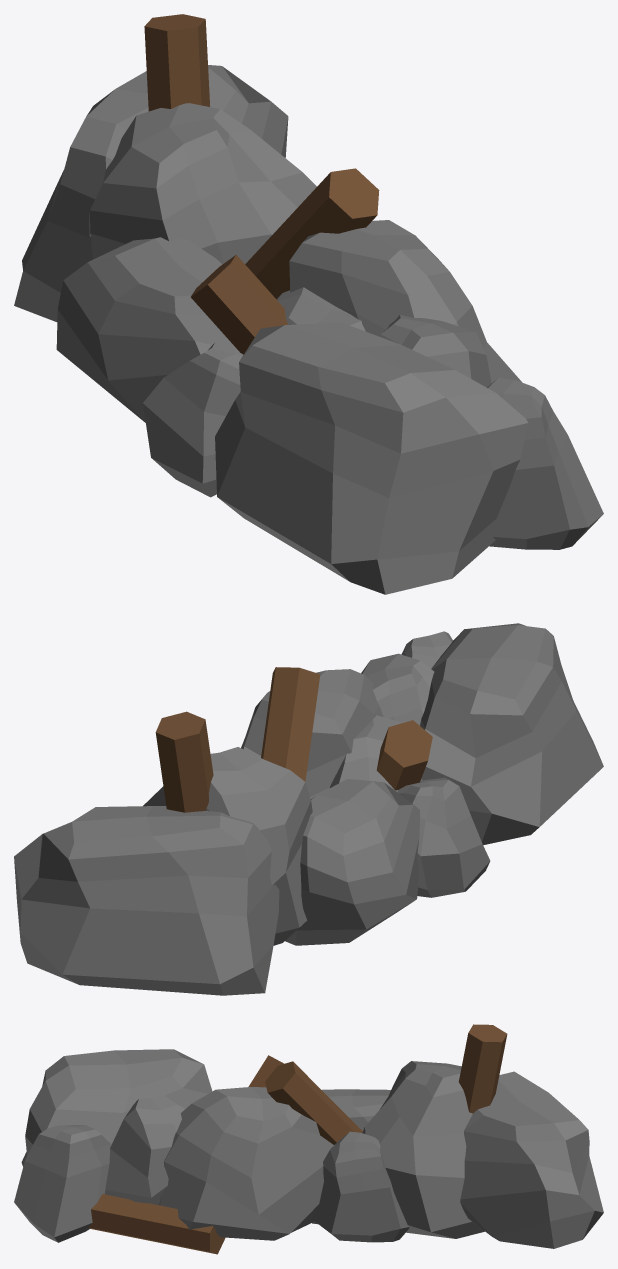
The model's file is bloqueo.glb.
The picture shows the model from 3 angles, top to bottom: view 1: azimuth 30°, elevation 25°; view 2: azimuth 150°, elevation 25°; view 3: azimuth 270°, elevation 25°; orthographic projection. The views are drawn at different scales.
Parts seen in each view (by area): view 1: Plane.006, Plane.003, Plane.009, Plane.008, Plane.001, Plane.007, Plane.010, Cylinder, Cylinder.003, Cylinder.001, Plane.004, Plane.005; view 2: Plane.008, Plane.006, Plane.009, Plane.003, Plane.010, Plane.001, Cylinder, Cylinder.003, Plane.004, Cylinder.001, Plane.005, Plane.007; view 3: Plane.001, Plane.008, Plane.003, Plane.006, Plane.007, Plane, Plane.004, Cylinder.002, Cylinder, Cylinder.003, Plane.009, Cylinder.001.
Boxes of the visible parts, x1,y1,x2,y2 form: Plane.006: [215, 323, 528, 594]; Plane.003: [89, 103, 316, 264]; Plane.009: [56, 237, 231, 422]; Plane.008: [14, 65, 288, 321]; Plane.001: [289, 220, 521, 382]; Plane.007: [487, 377, 603, 549]; Plane.010: [143, 342, 243, 497]; Cylinder: [245, 168, 379, 298]; Cylinder.003: [144, 14, 209, 111]; Cylinder.001: [191, 254, 288, 354]; Plane.004: [379, 315, 491, 387]; Plane.005: [276, 287, 365, 331]; Plane.008: [14, 806, 279, 995]; Plane.006: [420, 623, 603, 845]; Plane.009: [285, 779, 419, 945]; Plane.003: [143, 747, 312, 945]; Plane.010: [397, 777, 490, 897]; Plane.001: [241, 669, 383, 798]; Cylinder: [261, 667, 320, 781]; Cylinder.003: [155, 711, 213, 812]; Plane.004: [361, 653, 434, 725]; Cylinder.001: [376, 720, 432, 790]; Plane.005: [329, 715, 421, 791]; Plane.007: [401, 631, 452, 668]; Plane.001: [159, 1087, 334, 1240]; Plane.008: [460, 1071, 603, 1248]; Plane.003: [362, 1061, 484, 1238]; Plane.006: [21, 1049, 212, 1166]; Plane.007: [14, 1125, 111, 1242]; Plane: [313, 1131, 409, 1242]; Plane.004: [104, 1095, 184, 1205]; Cylinder.002: [88, 1194, 225, 1254]; Cylinder: [265, 1061, 362, 1144]; Cylinder.003: [458, 1024, 507, 1113]; Plane.009: [322, 1089, 390, 1130]; Cylinder.001: [248, 1055, 283, 1087].
Size of the model in its own units: 4.41 by 3.48 by 9.77.
